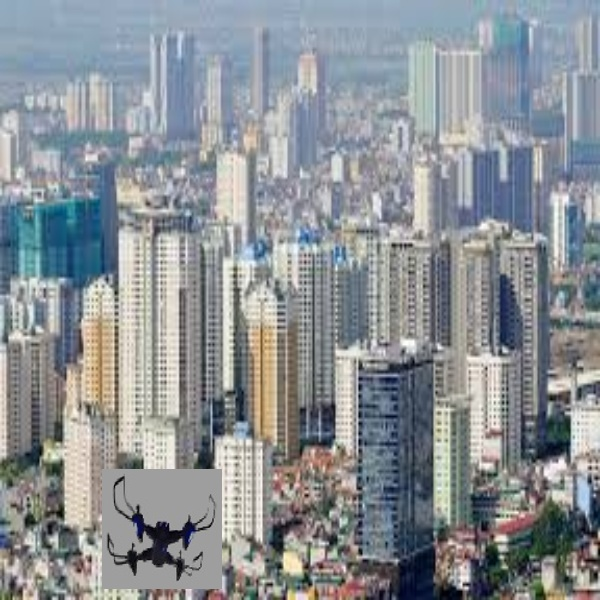drone: (109, 478, 217, 580)
